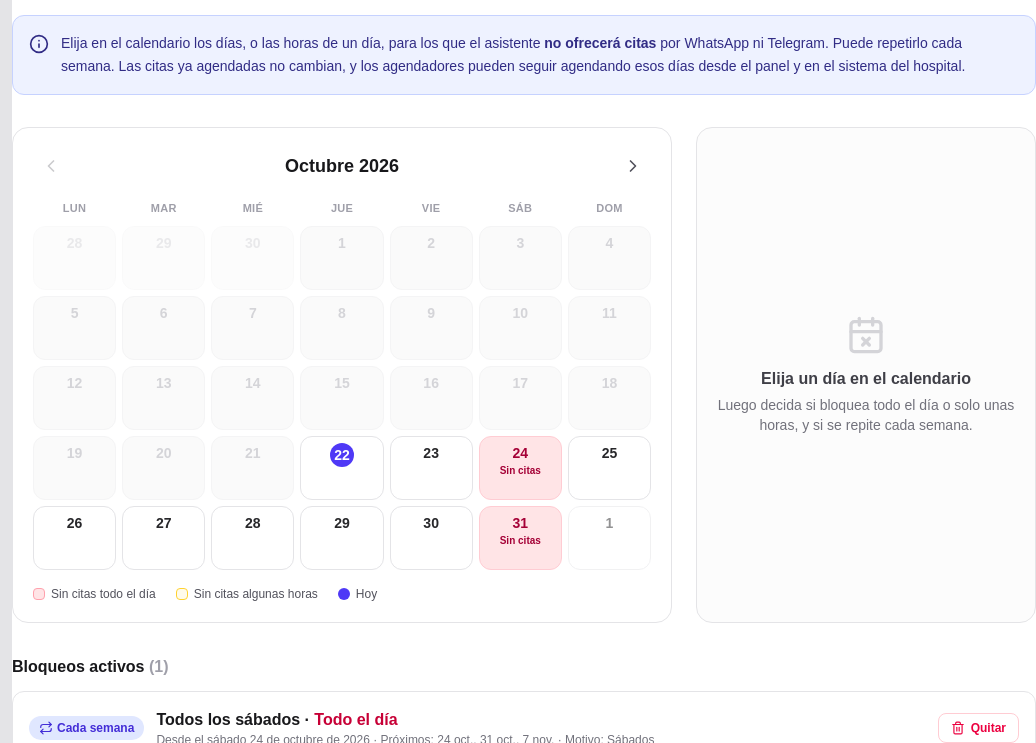
Scenario: BloqueosAgenda — Configuración › Días sin citas › quitar pide confirmación y luego quita
Click the button with aria-label "Quitar Todos los sábados" at (978, 728), box [938, 713, 1019, 742]
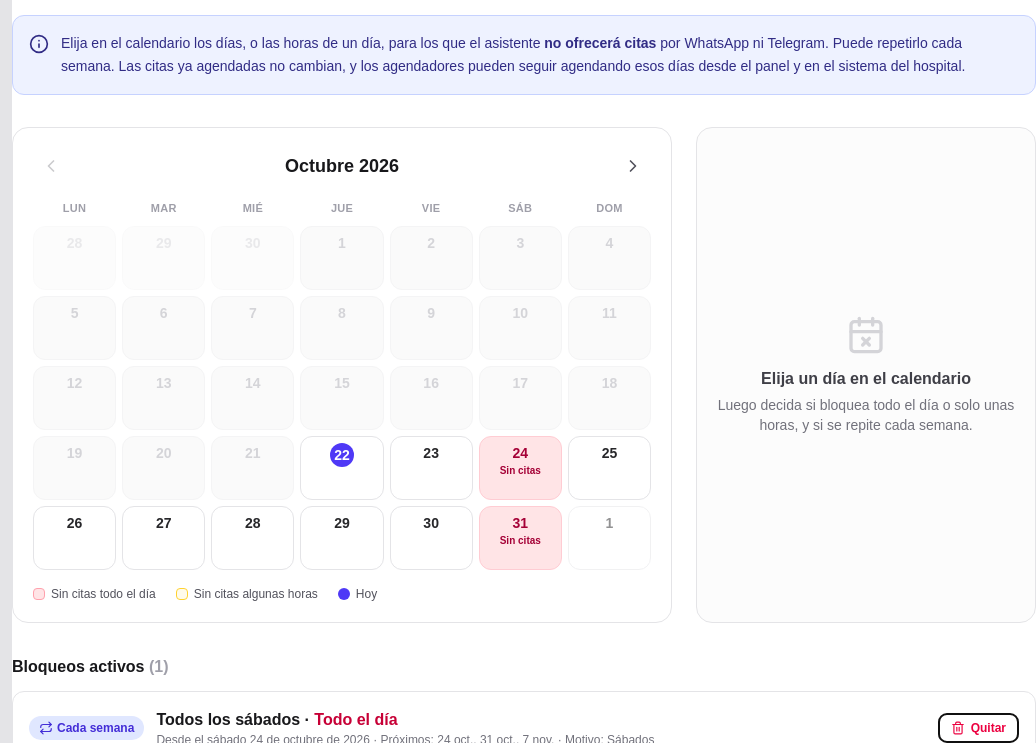
Click the button with aria-label "Quitar Todos los sábados" at (978, 728), box [938, 713, 1019, 742]
(page scrolled)
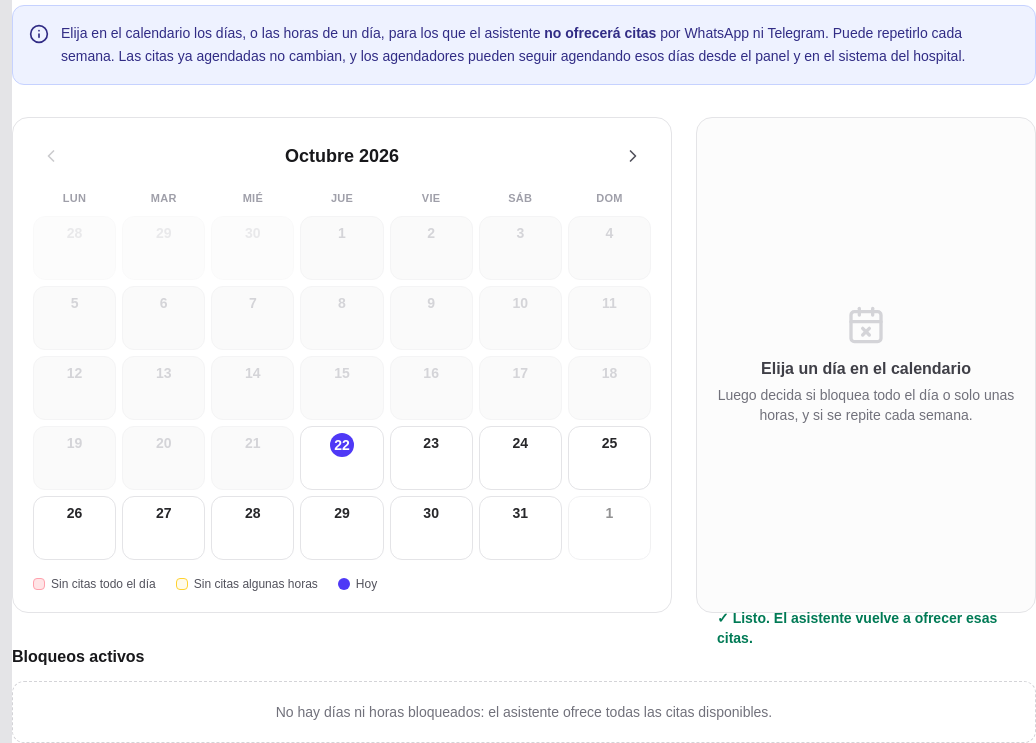
Result: the text "No hay días ni horas bloqueados" is shown at [276, 704, 772, 720]
